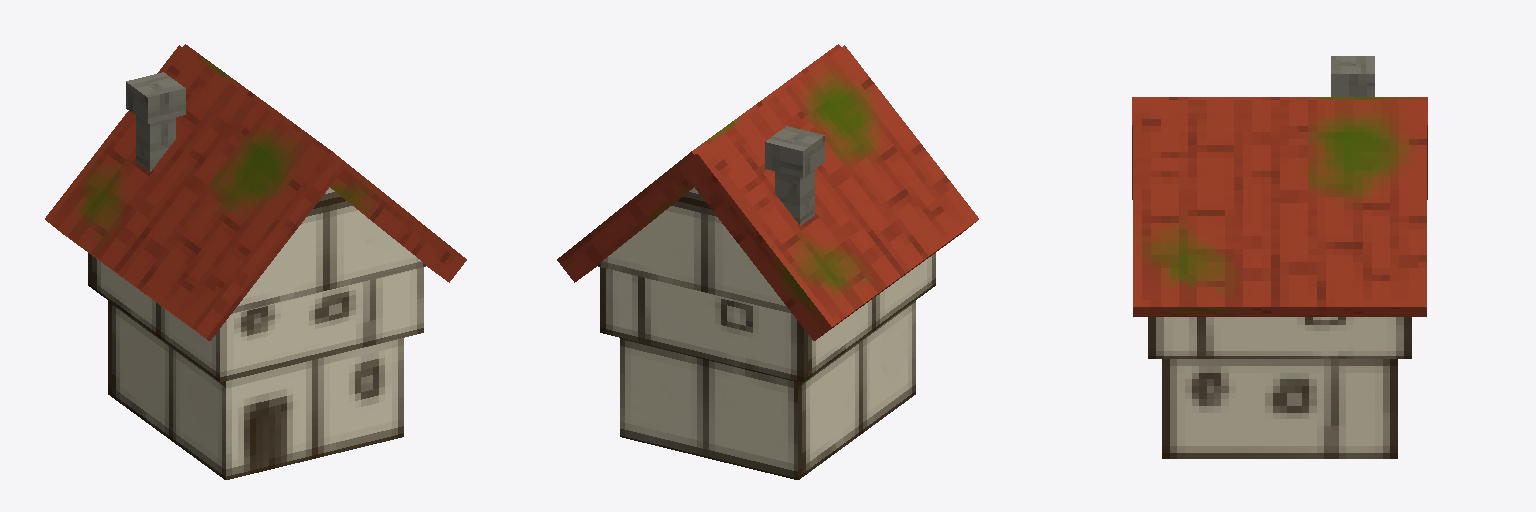
The picture shows the model from 3 angles: view 1: azimuth 30°, elevation 25°; view 2: azimuth 150°, elevation 25°; view 3: azimuth 270°, elevation 25°; orthographic projection.
Parts seen in each view (by area): view 1: cuboid, pyramid; view 2: cuboid, pyramid; view 3: cuboid.
Part boxes in pixels (x1,y1,x2,y2): cuboid: (45, 44, 466, 479); pyramid: (232, 187, 426, 313); cuboid: (557, 44, 978, 479); pyramid: (597, 187, 791, 313); cuboid: (1132, 56, 1427, 458).
Bounding box in the file's own units: 1.35 × 1.5 × 1.26.
Materials: 2 (1 with a texture image).